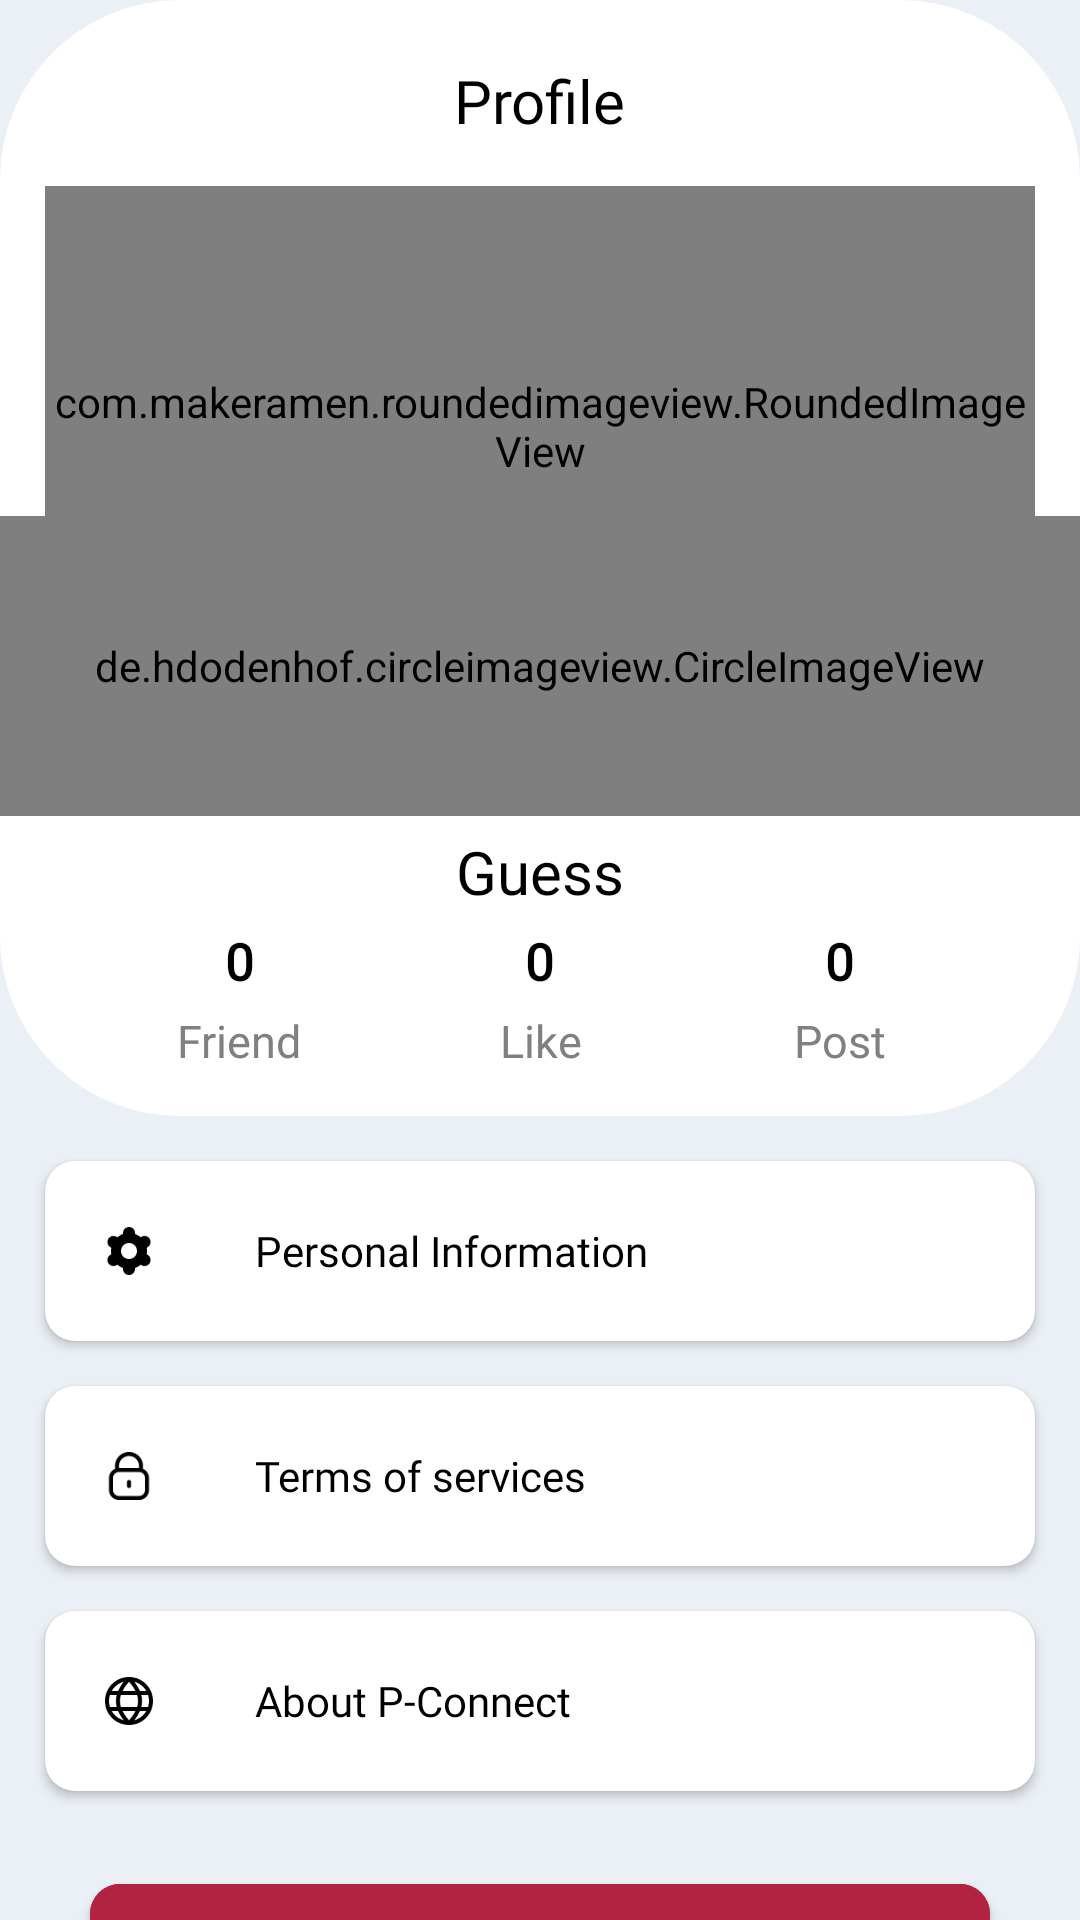

Screen size 1080*1920. Icon name, then its box in pixels as (x1, y1, x2, y2):
globe: (105, 1677, 153, 1725)
lock: (108, 1452, 150, 1500)
settings: (107, 1227, 151, 1275)
